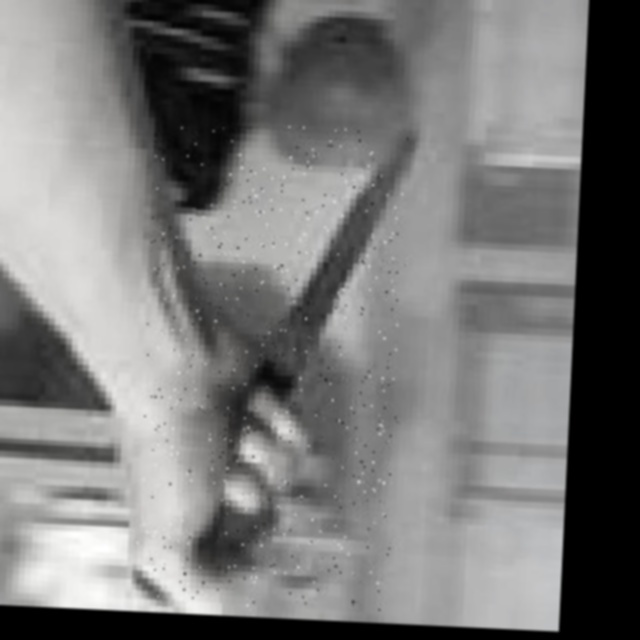Sharp-Object: (132, 120, 413, 613)
